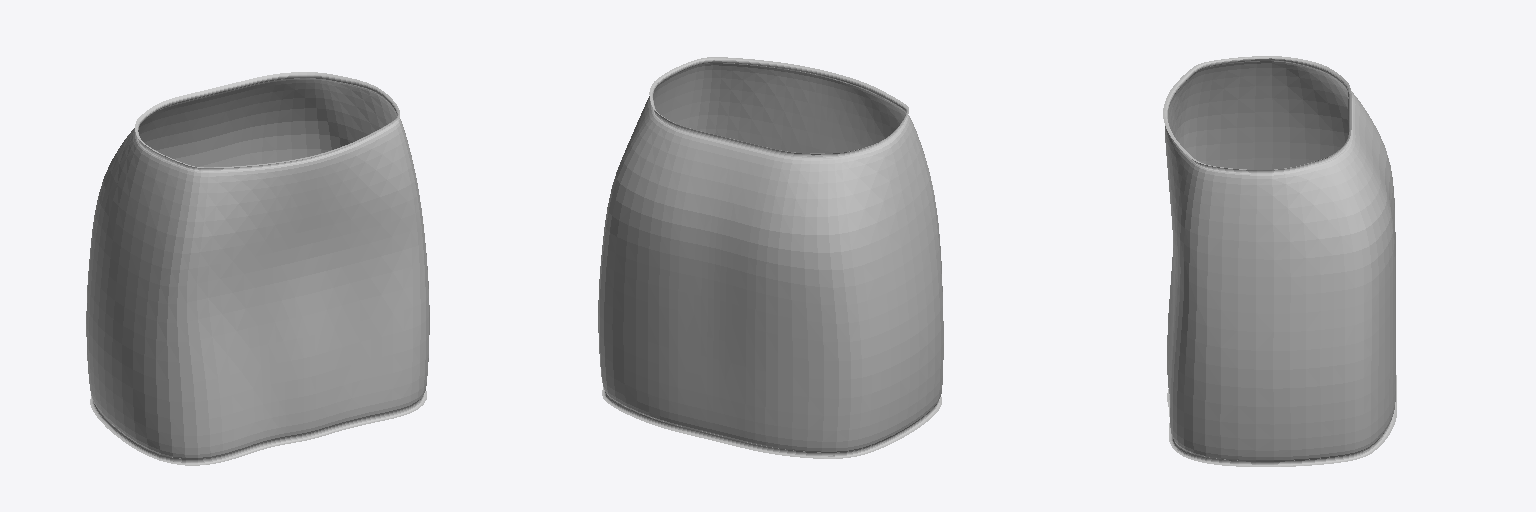
Rendered from short_skirt.obj.
The picture shows the model from 3 angles: view 1: azimuth 30°, elevation 25°; view 2: azimuth 150°, elevation 25°; view 3: azimuth 270°, elevation 25°; orthographic projection.
Parts seen in each view (by area): view 1: A3skirt01; view 2: A3skirt01; view 3: A3skirt01.
Part boxes in pixels (x1,y1,x2,y2): A3skirt01: (86, 72, 429, 465); A3skirt01: (598, 57, 943, 458); A3skirt01: (1163, 56, 1396, 466).
Bounding box in the file's own units: 0.1323 × 0.1228 × 0.0907.